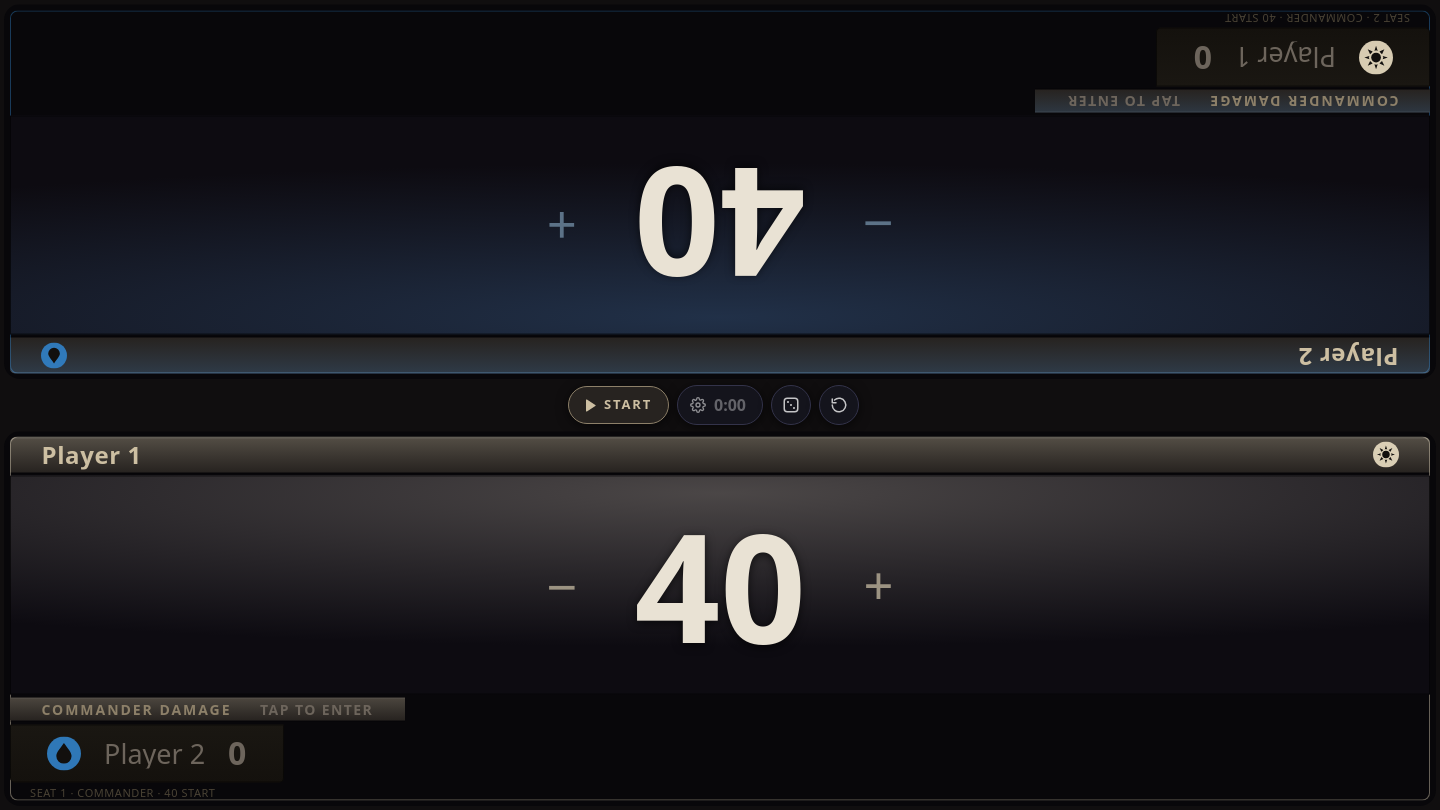
Scenario: asking first (RESET-1) › wipes nothing on the first press, only asks
Press the mouse on the button named "lose life": (362, 618) [4,431,720,806]
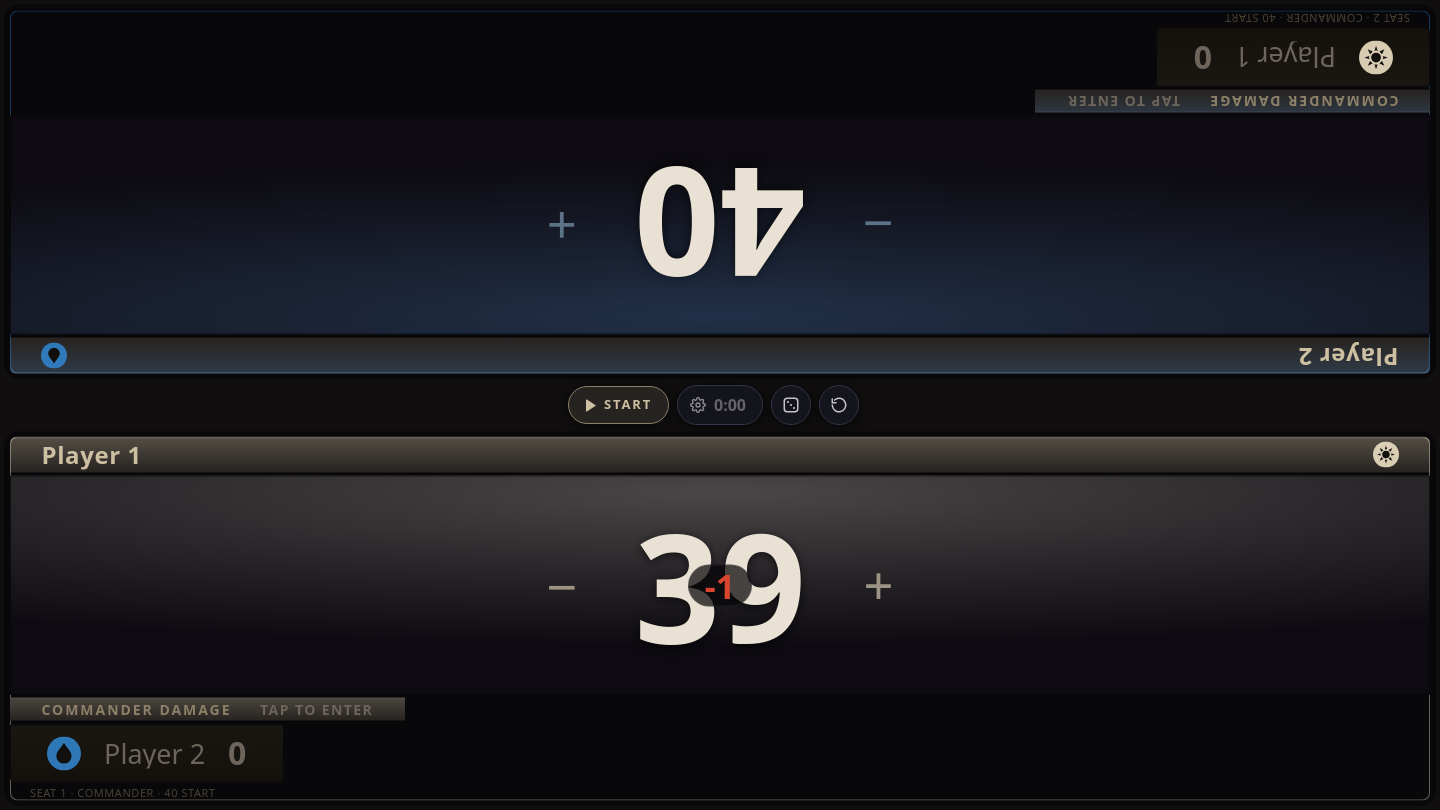
Click the button named "Reset the game": (839, 405) [819,385,859,425]
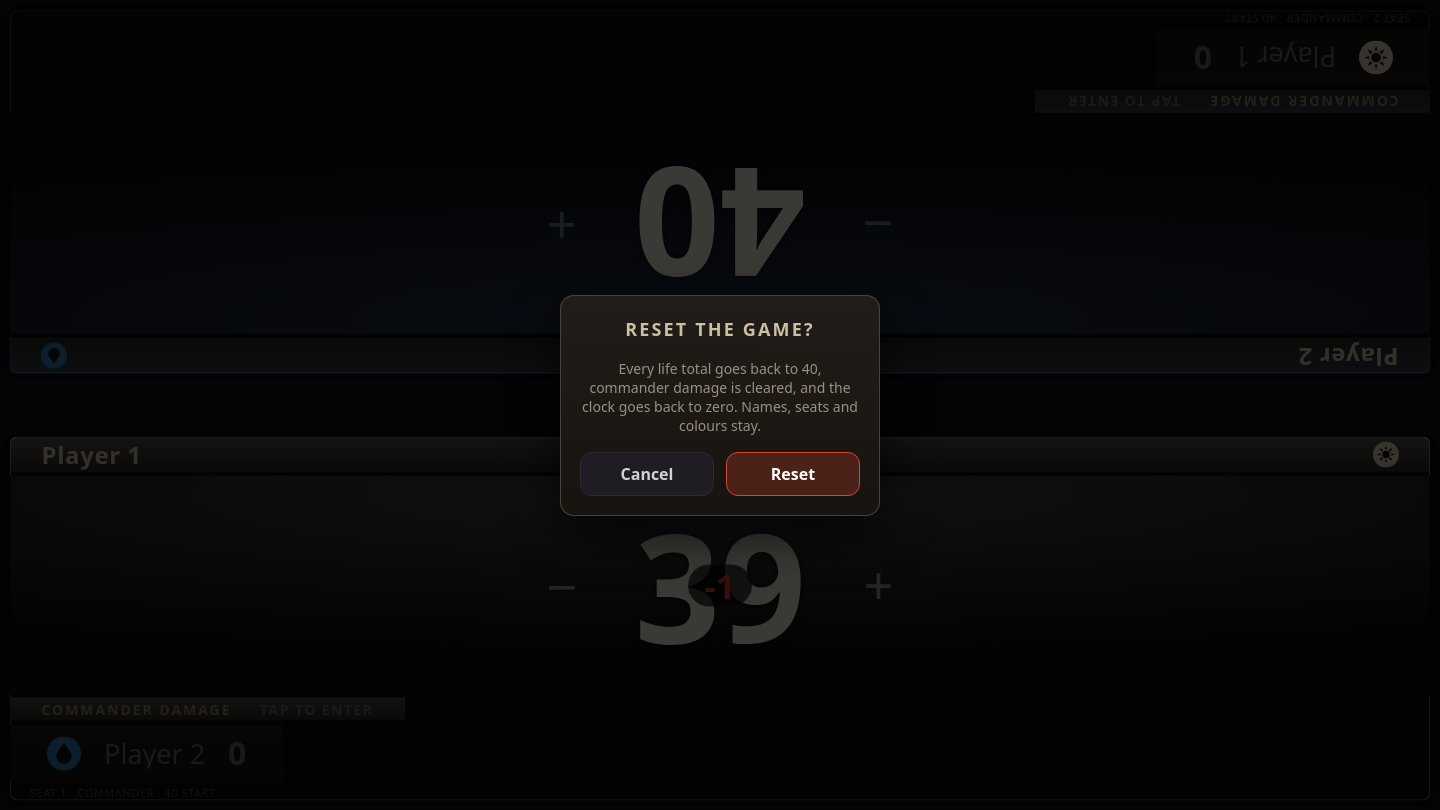
expect the dialog "Reset the game?" is shown: met, box [560,294,880,516]
